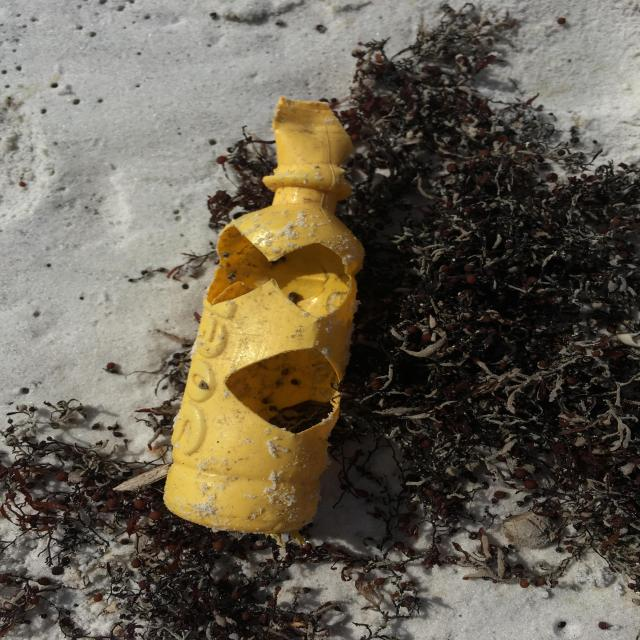litter: (154, 81, 377, 550)
